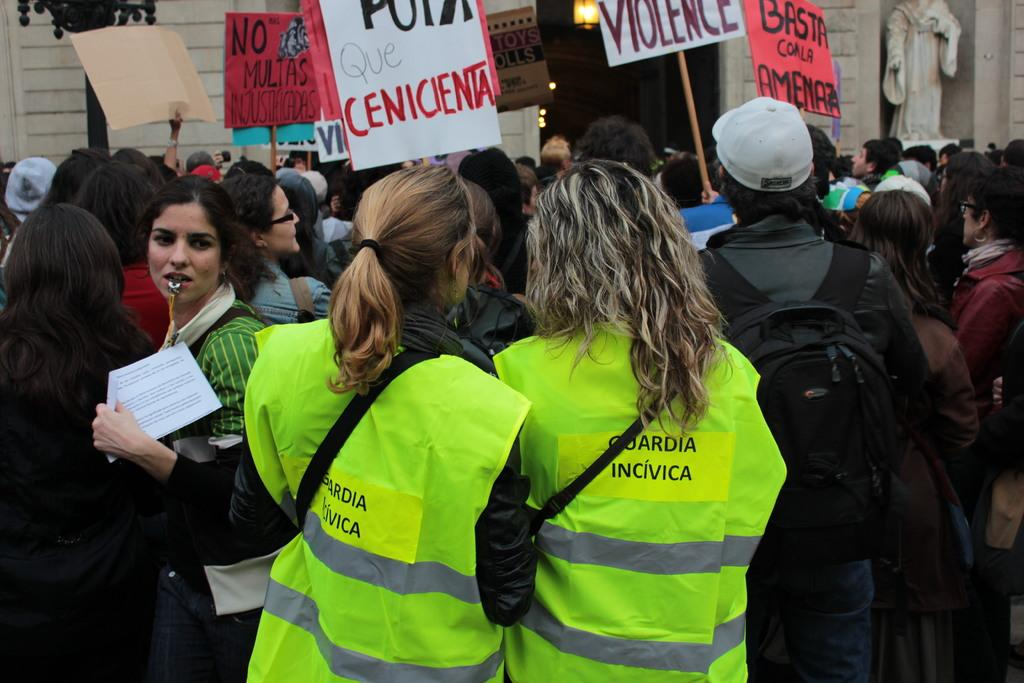Hat: (710, 95, 814, 194)
